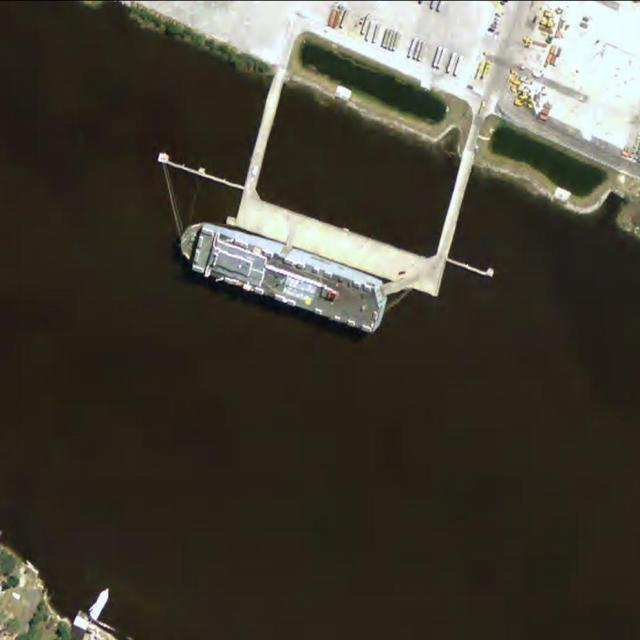Dock: (232, 194, 449, 297)
RoRo: (171, 211, 396, 339)
